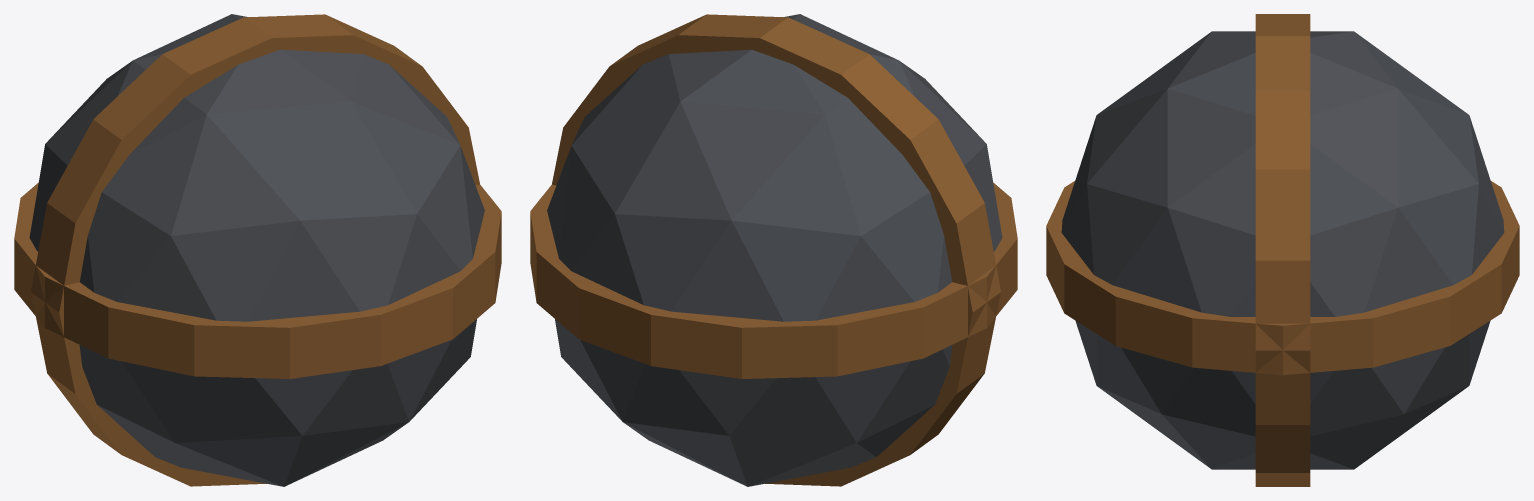
Rendered from projectile_cannonball.glb.
3 views of the same model, side by side, from view 1: azimuth 30°, elevation 25°; view 2: azimuth 150°, elevation 25°; view 3: azimuth 270°, elevation 25° (orthographic). The views are drawn at different scales.
Parts seen in each view (by area): view 1: Ball, Band_A, Band_B; view 2: Ball, Band_A, Band_B; view 3: Ball, Band_A, Band_B.
Part boxes in pixels (x1,y1,x2,y2): Ball: (29, 14, 484, 486); Band_A: (14, 183, 501, 378); Band_B: (31, 14, 479, 486); Ball: (547, 14, 1002, 486); Band_A: (530, 183, 1017, 378); Band_B: (552, 14, 1000, 486); Ball: (1061, 31, 1504, 469); Band_A: (1046, 181, 1519, 375); Band_B: (1255, 14, 1310, 486).
Bounding box in the file's own units: 0.226 × 0.226 × 0.226.
